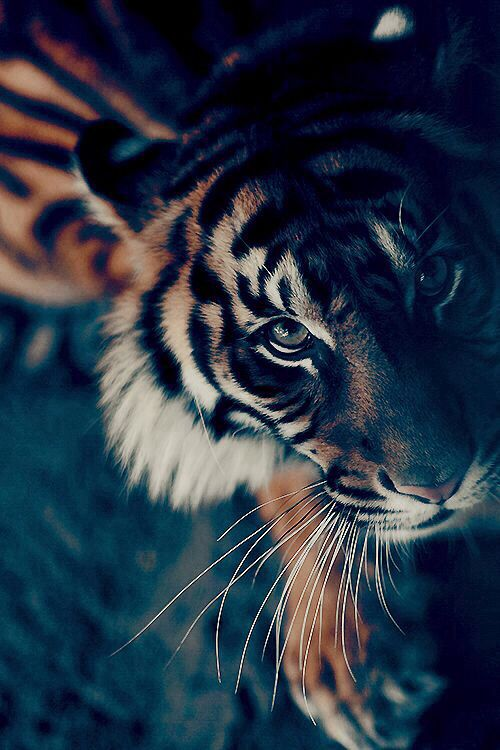Tigrew: (12, 37, 496, 649)
